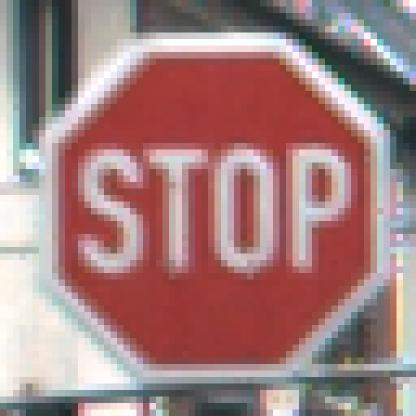Stop: (46, 42, 381, 383)
